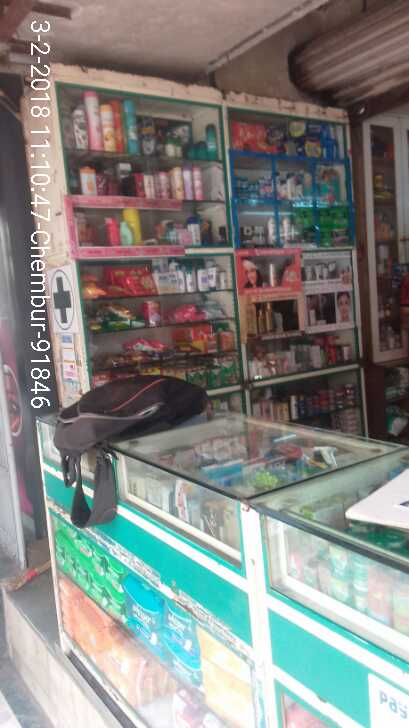vicks: (237, 174, 273, 200)
